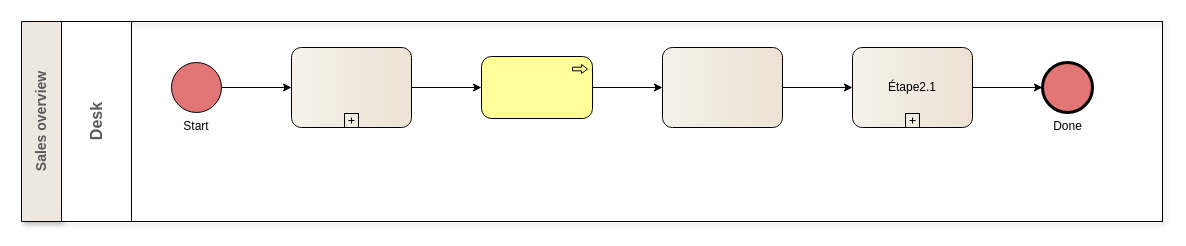
This 1186x246 diagram has some shape labels left out. The centre of each missing label's shape, as x and y in pixels:
"Archive" belongs at pixel 722 87.
"Quote preparation" belongs at pixel 351 87.
"Run 2.1 checks" belongs at pixel 536 87.
